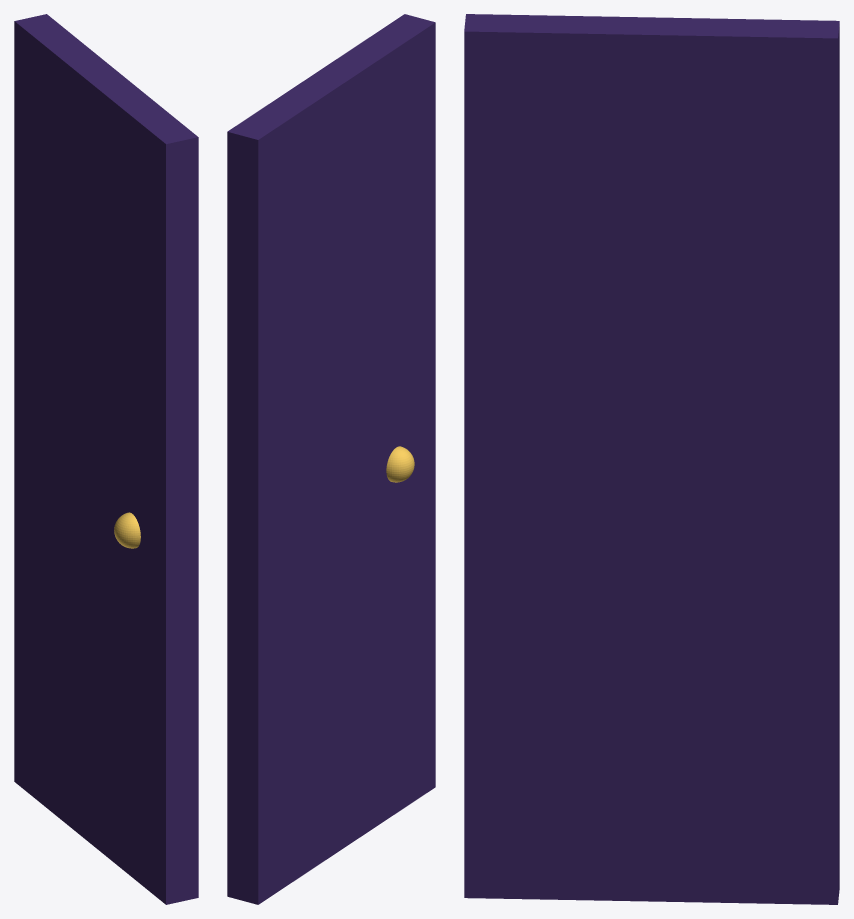
File: portaesquerda.gltf
3 views of the same model, side by side, from view 1: azimuth 30°, elevation 25°; view 2: azimuth 150°, elevation 25°; view 3: azimuth 270°, elevation 25° (orthographic). The views are drawn at different scales.
Visible parts, largest first — view 1: estrutura porta esquerda, maçaneta esquerda; view 2: estrutura porta esquerda, maçaneta esquerda; view 3: estrutura porta esquerda.
Part boxes in pixels (x1=…): estrutura porta esquerda: x1=14, y1=14, x2=198, y2=904; maçaneta esquerda: x1=114, y1=512, x2=140, y2=548; estrutura porta esquerda: x1=227, y1=14, x2=435, y2=904; maçaneta esquerda: x1=386, y1=446, x2=414, y2=482; estrutura porta esquerda: x1=464, y1=14, x2=839, y2=904.
Size of the model in its own units: 0.1128 by 1.44 by 0.5647.
2 materials, 2 textured.
